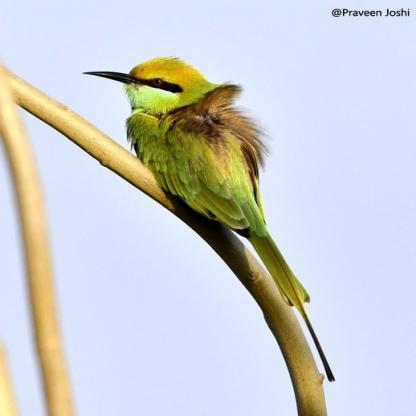Burung: (81, 55, 334, 382)
